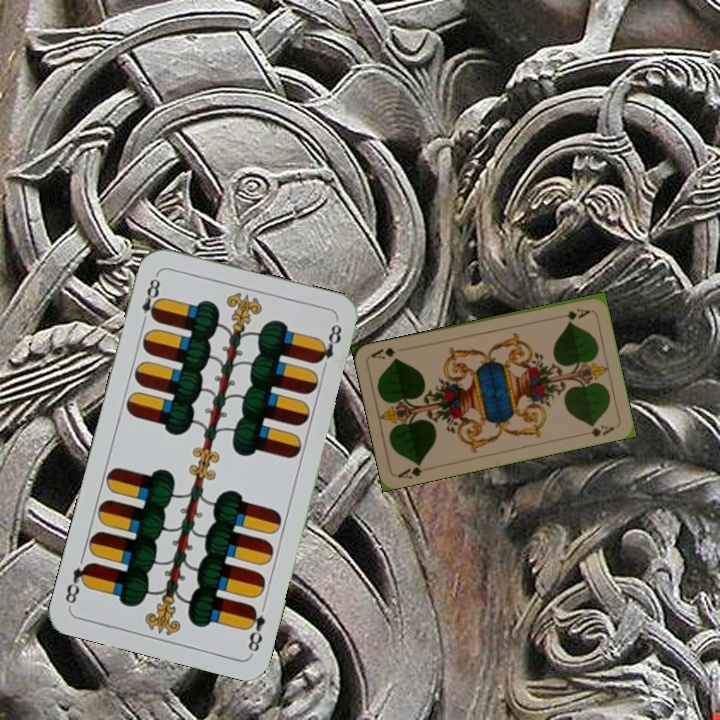E8: (137, 270, 164, 328), (242, 601, 268, 656)
GA: (394, 458, 425, 481), (563, 305, 592, 322)
